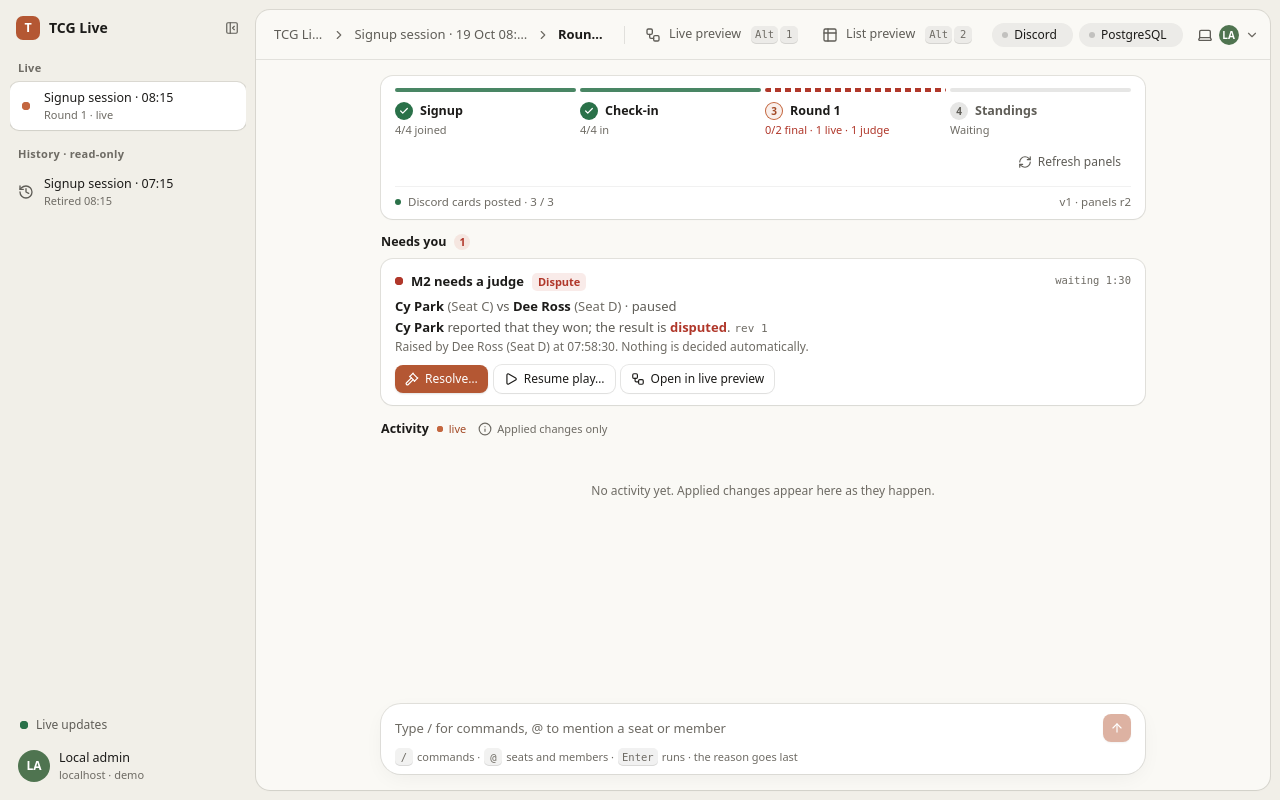
Scenario: banners › a past event that was active when cached shows as retired once a new event takes over
Step 1. Click the button "Signup session · 07:15 Retired 08:15" → x=128, y=192, box [10,168,246,216]
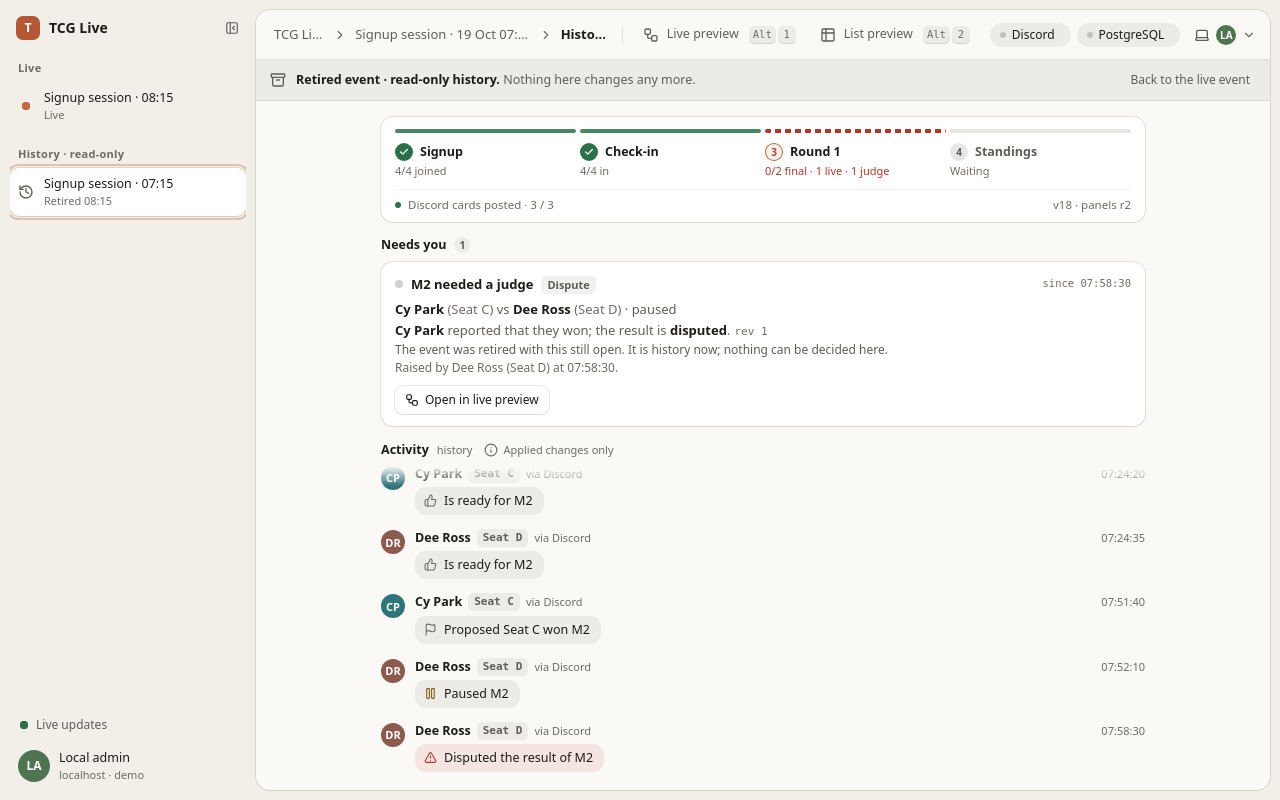
Now the text "Retired event · read-only history." is shown, box [296,71,500,88]
Now the text "History" is shown, box [557,23,612,46]
